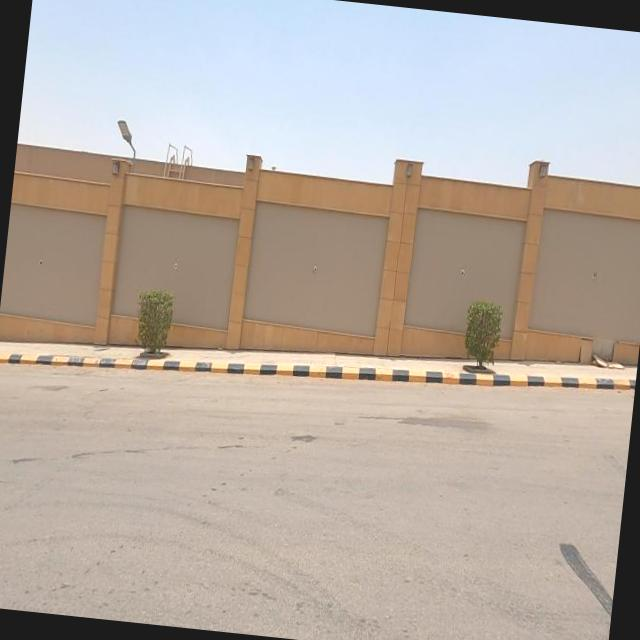debris: (570, 314, 638, 397)
